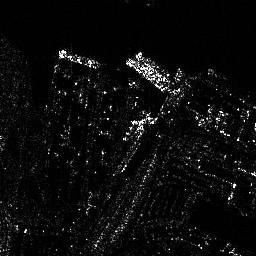ship: (137, 51, 173, 79), (59, 49, 100, 67)
